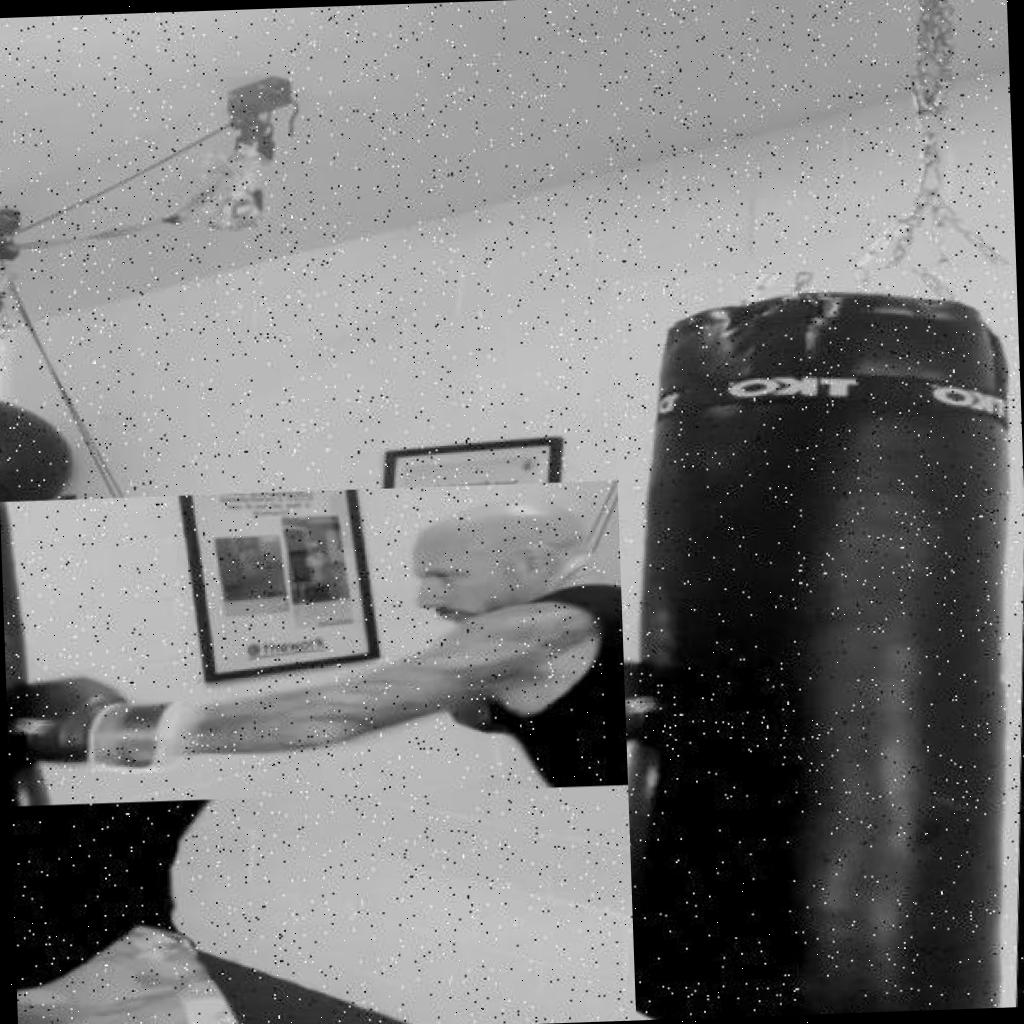bag: (609, 263, 1024, 1020)
jab: (0, 475, 753, 804)
